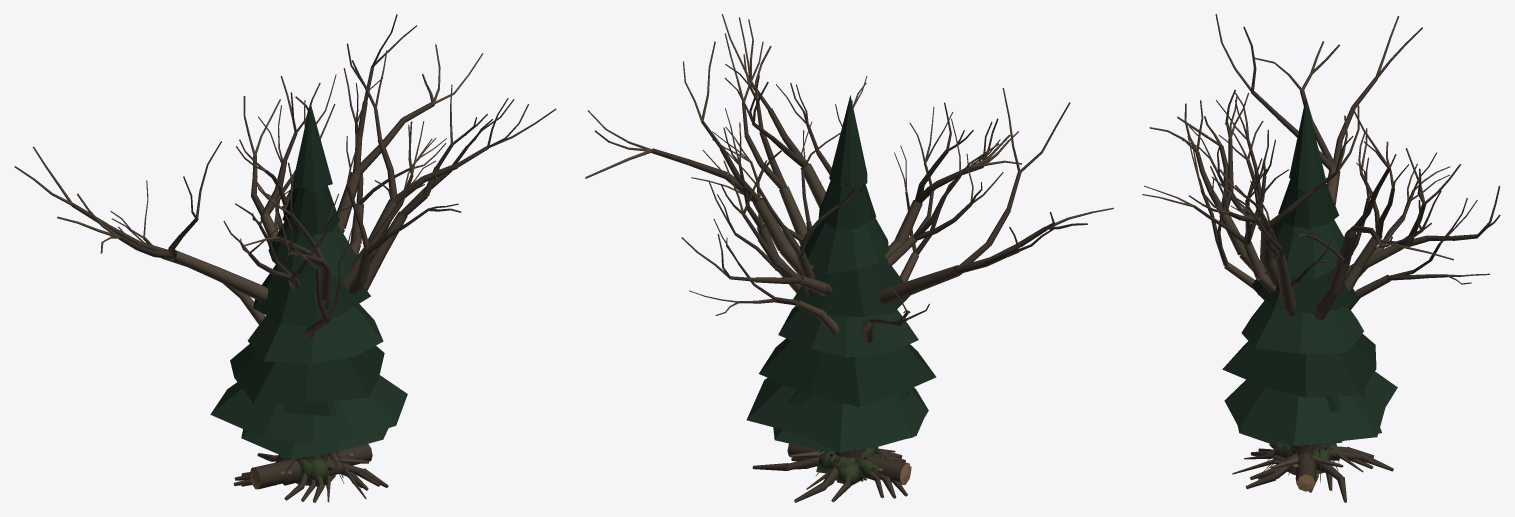
The model's file is hg-woodkit.glb.
The picture shows the model from 3 angles, left to right: view 1: azimuth 30°, elevation 25°; view 2: azimuth 150°, elevation 25°; view 3: azimuth 270°, elevation 25°; orthographic projection. The views are drawn at different scales.
Visible parts, largest first — view 1: pine1, tree3, tree2, tree1, pine0, tree0, log1, bramble1; view 2: pine1, tree3, tree2, tree1, tree0, pine0, log1, bramble0; view 3: pine1, tree3, tree2, tree1, tree0, log1, pine0, bramble0, roots0.
Part boxes in pixels (bbox=[...]): pine1: bbox=[210, 102, 407, 444]; tree3: bbox=[14, 14, 556, 487]; tree2: bbox=[233, 76, 514, 502]; tree1: bbox=[223, 68, 461, 500]; pine0: bbox=[241, 400, 388, 459]; tree0: bbox=[110, 105, 435, 501]; log1: bbox=[249, 444, 372, 489]; bramble1: bbox=[275, 452, 344, 486]; pine1: bbox=[746, 95, 936, 452]; tree3: bbox=[585, 14, 1113, 502]; tree2: bbox=[681, 33, 1021, 502]; tree1: bbox=[712, 76, 1003, 485]; tree0: bbox=[689, 121, 985, 498]; pine0: bbox=[773, 381, 923, 452]; log1: bbox=[787, 443, 911, 484]; bramble0: bbox=[815, 447, 886, 485]; pine1: bbox=[1222, 98, 1397, 446]; tree3: bbox=[1189, 14, 1453, 502]; tree2: bbox=[1149, 89, 1500, 478]; tree1: bbox=[1142, 92, 1409, 490]; tree0: bbox=[1187, 136, 1489, 492]; log1: bbox=[1292, 453, 1343, 491]; pine0: bbox=[1237, 390, 1381, 446]; bramble0: bbox=[1263, 443, 1339, 471]; roots0: bbox=[1232, 450, 1363, 474].
Bounding box in the file's own units: 14.93 × 12.85 × 10.12.
